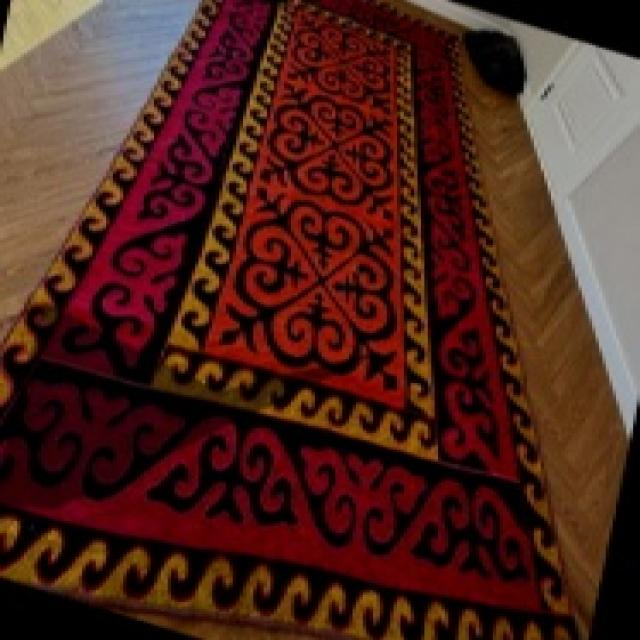Unity: (207, 183, 398, 396), (258, 86, 401, 224), (280, 15, 400, 109)
